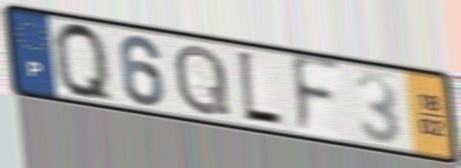3: (353, 69, 404, 146)
6: (116, 32, 167, 109)
F: (288, 52, 344, 137)
L: (234, 46, 286, 131)
Q: (50, 18, 119, 109), (171, 41, 234, 118)
